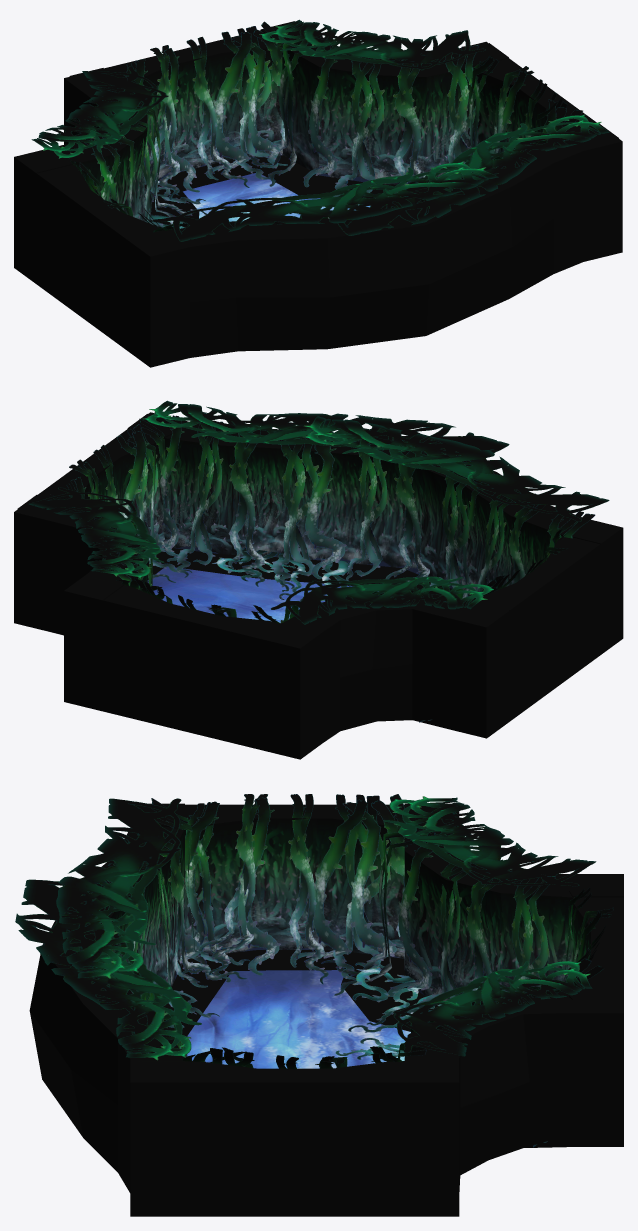
The model's file is Dungeon_012_RoadT_002.fbx.
The picture shows the model from 3 angles, top to bottom: view 1: azimuth 30°, elevation 25°; view 2: azimuth 150°, elevation 25°; view 3: azimuth 270°, elevation 25°; orthographic projection. The views are drawn at different scales.
Parts seen in each view (by area): view 1: Dan1, un_021_Door_002 (×3), Dungeon_021_Tsuta_003 1, un_021_Door_002_Object1 (×3), Dungeon_021_Tsuta_003, Dan1_shadow, Dan2, Dun_011_Door_002_shadow; view 2: Dan1, un_021_Door_002 (×3), Dungeon_021_Tsuta_003 1, Dungeon_021_Tsuta_003, un_021_Door_002_Object1 (×3), Dan2, Dan1_shadow, Dungeon_021_Tsuta_001; view 3: Dan1, un_021_Door_002 (×3), Dungeon_021_Tsuta_003 1, un_021_Door_002_Object1 (×3), Dan2, Dungeon_021_Tsuta_003, Dan1_shadow, Dungeon_021_Tsuta_001, Dun_011_Door_002_shadow.
Part boxes in pixels (x1=…): Dan1: x1=14, y1=23, x2=622, y2=367; un_021_Door_002 (×3): x1=17, y1=21, x2=618, y2=350; Dungeon_021_Tsuta_003 1: x1=31, y1=19, x2=609, y2=241; un_021_Door_002_Object1 (×3): x1=70, y1=21, x2=582, y2=228; Dungeon_021_Tsuta_003: x1=84, y1=35, x2=557, y2=232; Dan1_shadow: x1=144, y1=155, x2=404, y2=229; Dan2: x1=183, y1=173, x2=370, y2=221; Dun_011_Door_002_shadow: x1=163, y1=160, x2=255, y2=191; Dan1: x1=14, y1=412, x2=623, y2=759; un_021_Door_002 (×3): x1=17, y1=414, x2=619, y2=749; Dungeon_021_Tsuta_003 1: x1=28, y1=400, x2=609, y2=624; Dungeon_021_Tsuta_003: x1=52, y1=415, x2=595, y2=622; un_021_Door_002_Object1 (×3): x1=66, y1=418, x2=568, y2=722; Dan2: x1=147, y1=566, x2=378, y2=622; Dan1_shadow: x1=156, y1=548, x2=473, y2=601; Dungeon_021_Tsuta_001: x1=212, y1=548, x2=348, y2=601; Dan1: x1=29, y1=805, x2=623, y2=1216; un_021_Door_002 (×3): x1=137, y1=803, x2=623, y2=1216; Dungeon_021_Tsuta_003 1: x1=15, y1=796, x2=596, y2=1060; un_021_Door_002_Object1 (×3): x1=179, y1=794, x2=613, y2=1147; Dan2: x1=180, y1=970, x2=410, y2=1068; Dungeon_021_Tsuta_003: x1=67, y1=798, x2=561, y2=1059; Dan1_shadow: x1=163, y1=952, x2=438, y2=1045; Dungeon_021_Tsuta_001: x1=335, y1=967, x2=441, y2=1059; Dun_011_Door_002_shadow: x1=232, y1=950, x2=350, y2=970.
Size of what is drawn, in the model's own units: 9 by 2.36 by 8.34.
